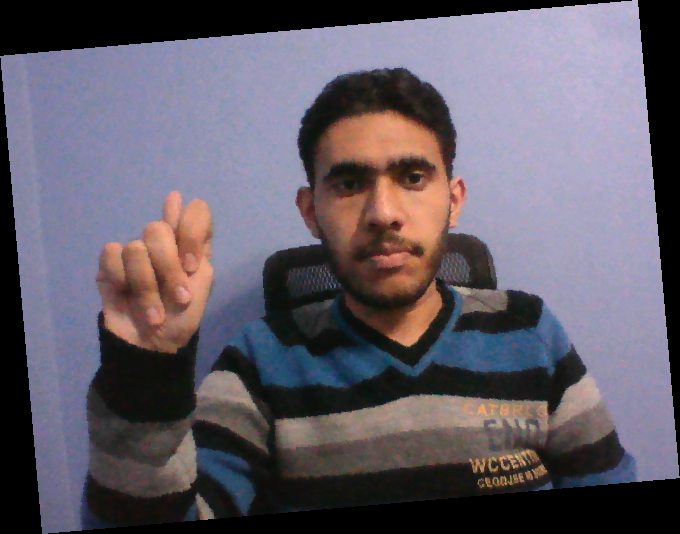T: (86, 182, 220, 363)
